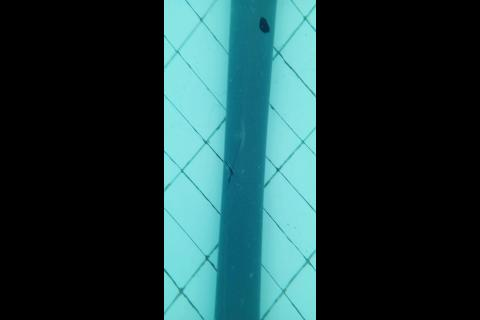kebocoran: (259, 15, 270, 34)
keretakan: (225, 144, 238, 188)
